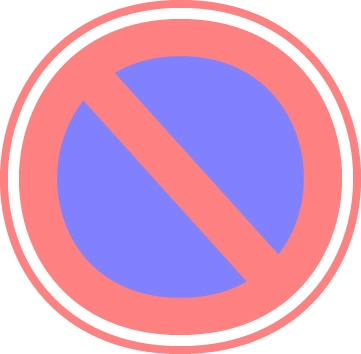Prohibition_sign: (3, 6, 361, 347)
